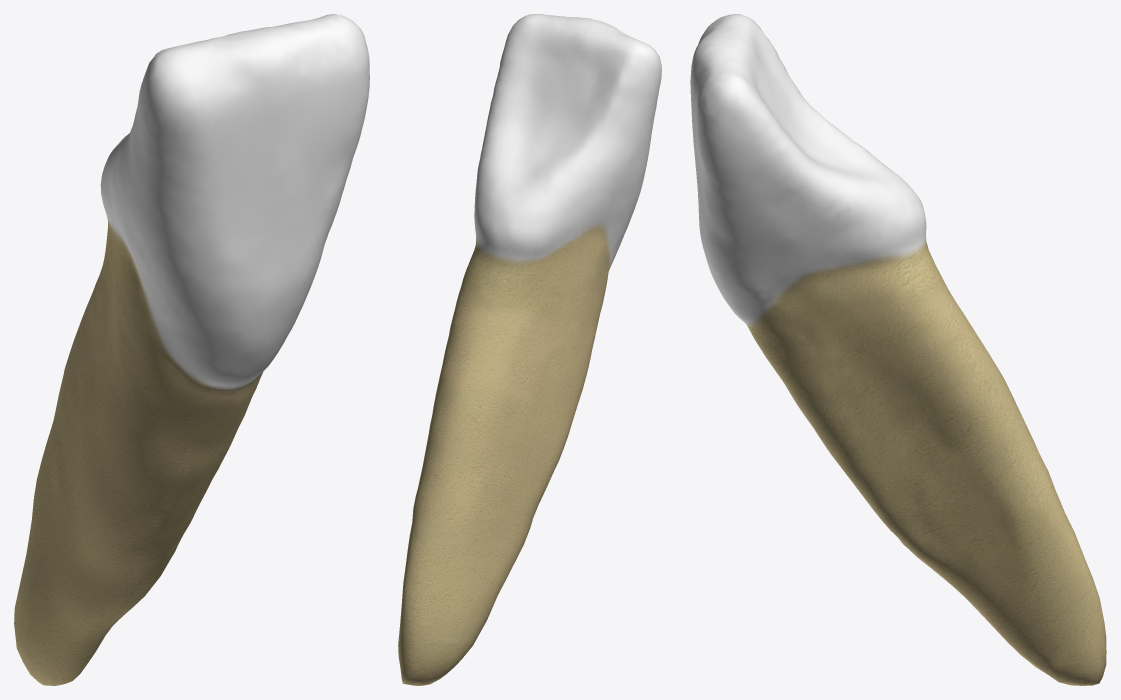
Rendered from Central .fbx.
3 renders of one model, left to right at view 1: azimuth 30°, elevation 25°; view 2: azimuth 150°, elevation 25°; view 3: azimuth 270°, elevation 25°, orthographic. The views are drawn at different scales.
Visible parts, largest first — view 1: 24; view 2: 24; view 3: 24.
Part boxes in pixels (x1,y1,x2,y2): 24: [14, 14, 369, 685]; 24: [398, 14, 661, 685]; 24: [690, 14, 1106, 685].
Bounding box in the file's own units: 0.467 × 1.69 × 0.9983.
2 materials, 1 textured.
